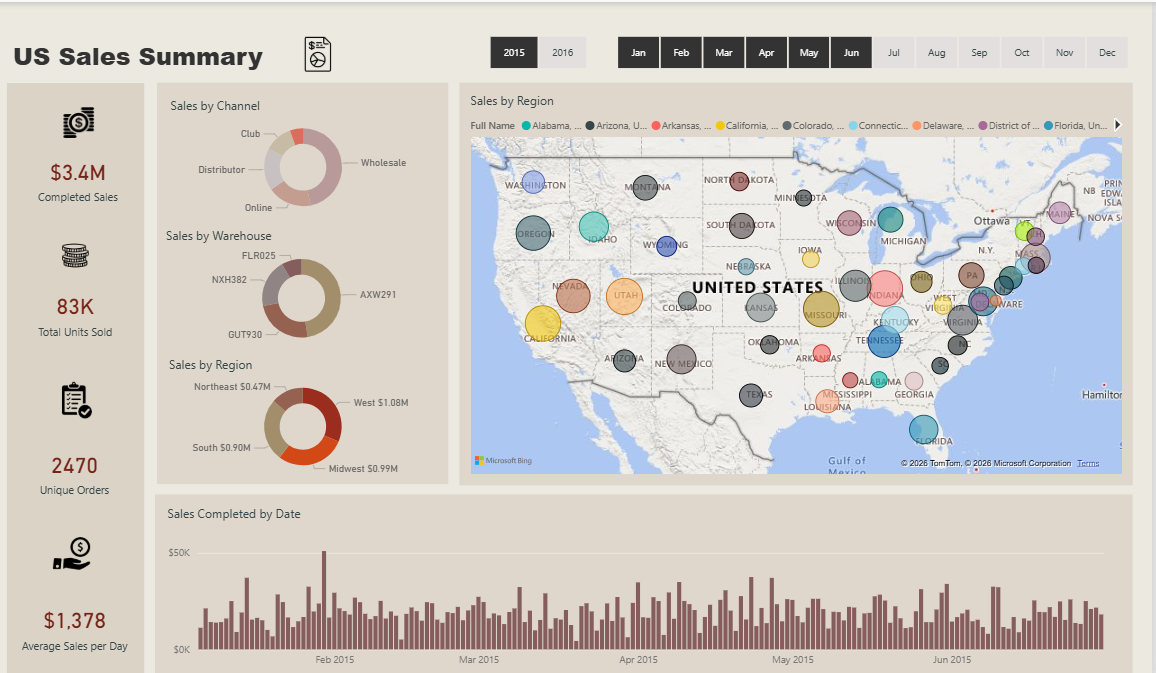

The dashboard page shown, as its layout file describes it:
{"tool":"powerbi","page":{"name":"Sales Summary","canvas":[1280,720],"ordinal":0},"visuals":[{"type":"basicShape","box":[503.6,50.9,762.4,455.9],"z":0},{"type":"basicShape","box":[8.6,49.7,155.5,669.2],"z":1000},{"type":"basicShape","box":[172.5,51,329.8,454.5],"z":2000},{"type":"basicShape","box":[163.8,510.1,1106.8,207.1],"z":3000},{"type":"columnChart","title":"Sales Completed by Date","fields":{"Category":["Date.Date"],"Y":["Key Metrics.Total Sales Completed"]},"box":[183,524.1,1068.8,188.4],"z":4000},{"type":"textbox","box":[12.2,2,306.6,51.8],"z":5000},{"type":"map","title":"Sales by Region","fields":{"Series":["US Regions.Full Name"],"Size":["Key Metrics.Completed Sales"],"Category":["US Regions.Name"]},"box":[519.8,66.2,732.9,428.4],"z":6000},{"type":"card","fields":{"Values":["Key Metrics.Total Sales Completed"]},"box":[18.3,128.9,140.1,68],"z":7000},{"type":"card","fields":{"Values":["Key Metrics.Total Units Sold"]},"box":[24.8,277.6,121,67],"z":8000},{"type":"card","fields":{"Values":["Key Metrics.Unique Orders"]},"box":[20.3,453.7,128.9,66],"z":9000},{"type":"donutChart","title":"Sales by Channel","fields":{"Y":["Key Metrics.Total Sales Completed"],"Category":["Unleashed Sales Orders.Customer Type"]},"box":[185.8,71.3,303.5,138.3],"z":10000},{"type":"donutChart","title":"Sales by Warehouse","fields":{"Category":["Unleashed Sales Orders.WarehouseCode"],"Y":["Key Metrics.Total Sales Completed"]},"box":[181.5,217.1,310,139.3],"z":11000},{"type":"donutChart","title":"Sales by Region","fields":{"Category":["US Regions.Region"],"Y":["Key Metrics.Total Sales Completed"]},"box":[184,359.8,306.4,137.8],"z":12000},{"type":"card","fields":{"Values":["Key Metrics.Average Sales per Day"]},"box":[16.2,622.2,136,74.1],"z":13000},{"type":"slicer","fields":{"Values":["Date.ShortMth"]},"box":[663.6,0,613.1,45],"z":14000},{"type":"slicer","fields":{"Values":["Date.Year"]},"box":[523,0,153.8,45],"z":15000},{"type":"image","box":[329.9,0,50.8,48.7],"z":16000},{"type":"image","box":[53.8,78.2,73.1,44.7],"z":17000},{"type":"image","box":[54,227.9,65.9,40],"z":18000},{"type":"image","box":[55.8,382.7,61.9,50.8],"z":19000},{"type":"image","box":[51.8,553,60.5,51.8],"z":20000}]}

Visuals, with their boxes on the page's 1280x720 design canvas (x1, y1, x2, y2). These are canvas units, not pixel positions in the 1156x673 screenshot, which may show the page scaled, cropped or inside an application window:
basicShape: {"left": 504, "top": 51, "right": 1266, "bottom": 507}
basicShape: {"left": 9, "top": 50, "right": 164, "bottom": 719}
basicShape: {"left": 172, "top": 51, "right": 502, "bottom": 506}
basicShape: {"left": 164, "top": 510, "right": 1271, "bottom": 717}
"Sales Completed by Date" columnChart: {"left": 183, "top": 524, "right": 1252, "bottom": 712}
textbox: {"left": 12, "top": 2, "right": 319, "bottom": 54}
"Sales by Region" map: {"left": 520, "top": 66, "right": 1253, "bottom": 495}
card - Key Metrics.Total Sales Completed: {"left": 18, "top": 129, "right": 158, "bottom": 197}
card - Key Metrics.Total Units Sold: {"left": 25, "top": 278, "right": 146, "bottom": 345}
card - Key Metrics.Unique Orders: {"left": 20, "top": 454, "right": 149, "bottom": 520}
"Sales by Channel" donutChart: {"left": 186, "top": 71, "right": 489, "bottom": 210}
"Sales by Warehouse" donutChart: {"left": 182, "top": 217, "right": 492, "bottom": 356}
"Sales by Region" donutChart: {"left": 184, "top": 360, "right": 490, "bottom": 498}
card - Key Metrics.Average Sales per Day: {"left": 16, "top": 622, "right": 152, "bottom": 696}
slicer - Date.ShortMth: {"left": 664, "top": 0, "right": 1277, "bottom": 45}
slicer - Date.Year: {"left": 523, "top": 0, "right": 677, "bottom": 45}
image: {"left": 330, "top": 0, "right": 381, "bottom": 49}
image: {"left": 54, "top": 78, "right": 127, "bottom": 123}
image: {"left": 54, "top": 228, "right": 120, "bottom": 268}
image: {"left": 56, "top": 383, "right": 118, "bottom": 434}
image: {"left": 52, "top": 553, "right": 112, "bottom": 605}
